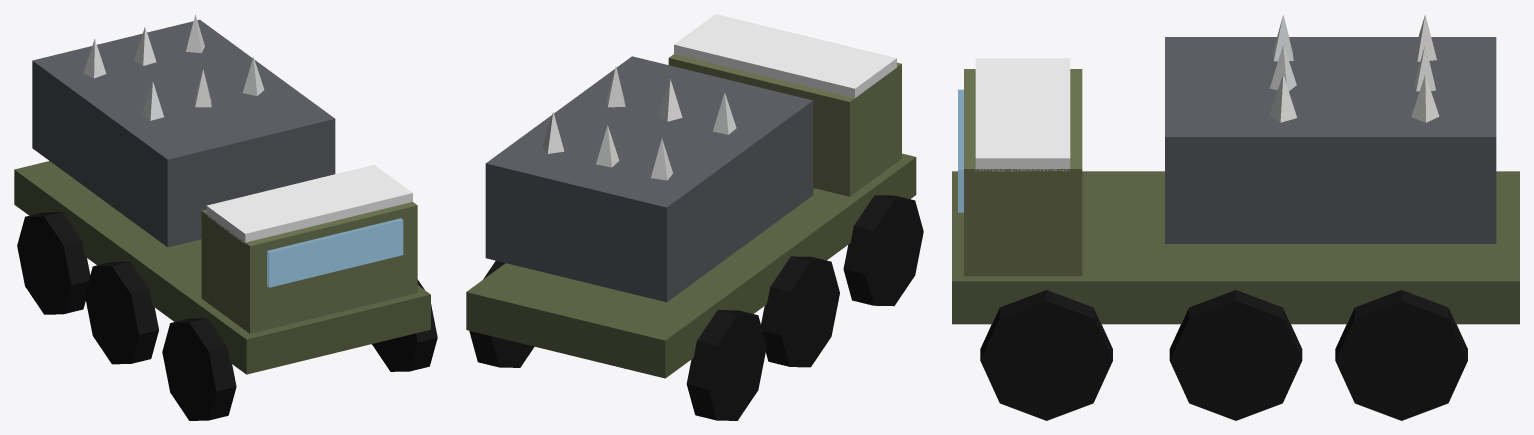
The model's file is Rocket Artillery.glb.
3 renders of one model, left to right at view 1: azimuth 30°, elevation 25°; view 2: azimuth 150°, elevation 25°; view 3: azimuth 270°, elevation 25°, orthographic. The views are drawn at different scales.
Visible parts, largest first — view 1: Units_Rocket Artillery; view 2: Units_Rocket Artillery; view 3: Units_Rocket Artillery.
Part boxes in pixels (x1,y1,x2,y2): Units_Rocket Artillery: (14, 14, 437, 420); Units_Rocket Artillery: (466, 14, 923, 420); Units_Rocket Artillery: (952, 14, 1519, 420).
Bounding box in the file's own units: 0.132 × 0.145 × 0.24.
